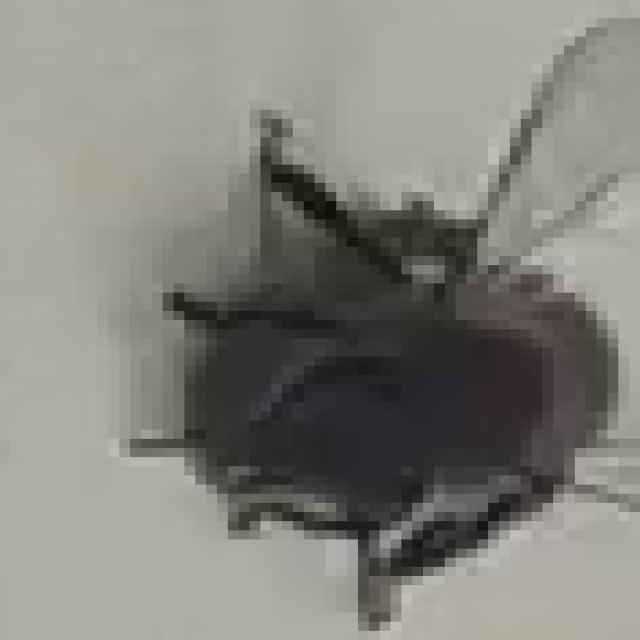honeybee: (128, 105, 614, 554)
